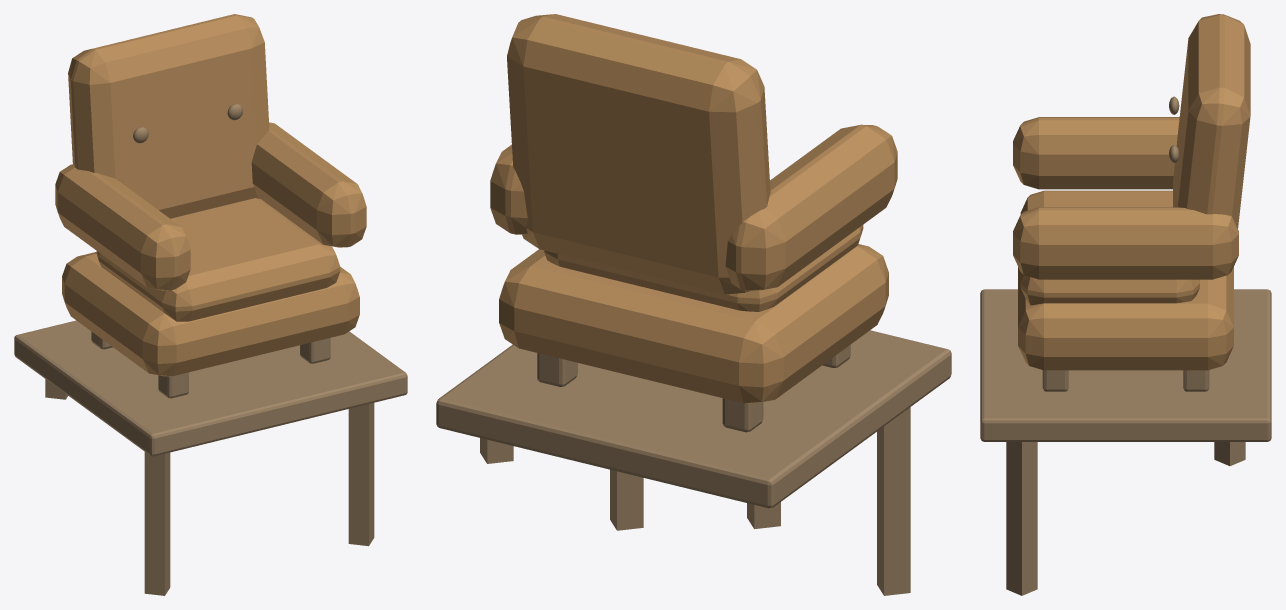
The model's file is SM_SlackerFriendsHouse_RoofChair.fbx.
3 renders of one model, left to right at view 1: azimuth 30°, elevation 25°; view 2: azimuth 150°, elevation 25°; view 3: azimuth 270°, elevation 25°, orthographic. The views are drawn at different scales.
Visible parts, largest first — view 1: EXPORT_Roof_Armchair_Back, EXPORT_Roof_Chair_Platform, EXPORT_Roof_Armchair_Base, EXPORT_Roof_Armchair_Cushion, EXPORT_Roof_Armchair_Arm, EXPORT_Roof_Armchair_Arm.001, EXPORT_Roof_Chair_Support, EXPORT_Roof_Chair_Support.002, EXPORT_Roof_Armchair_Foot, EXPORT_Roof_Armchair_Foot.002; view 2: EXPORT_Roof_Armchair_Back, EXPORT_Roof_Chair_Platform, EXPORT_Roof_Armchair_Base, EXPORT_Roof_Armchair_Arm, EXPORT_Roof_Chair_Support, EXPORT_Roof_Armchair_Cushion, EXPORT_Roof_Armchair_Arm.001, EXPORT_Roof_Chair_Support.002, EXPORT_Roof_Armchair_Foot.001, EXPORT_Roof_Armchair_Foot.003, EXPORT_Roof_Chair_Support.001, EXPORT_Roof_Chair_Support.003; view 3: EXPORT_Roof_Chair_Platform, EXPORT_Roof_Armchair_Arm.001, EXPORT_Roof_Armchair_Base, EXPORT_Roof_Armchair_Back, EXPORT_Roof_Armchair_Arm, EXPORT_Roof_Armchair_Cushion, EXPORT_Roof_Chair_Support.002, EXPORT_Roof_Chair_Support.003, EXPORT_Roof_Armchair_Foot.002, EXPORT_Roof_Armchair_Foot.003.
Part boxes in pixels (x1=…): EXPORT_Roof_Armchair_Back: x1=68, y1=14, x2=269, y2=218; EXPORT_Roof_Chair_Platform: x1=14, y1=320, x2=407, y2=456; EXPORT_Roof_Armchair_Base: x1=62, y1=252, x2=359, y2=376; EXPORT_Roof_Armchair_Cushion: x1=96, y1=198, x2=340, y2=321; EXPORT_Roof_Armchair_Arm: x1=55, y1=164, x2=190, y2=290; EXPORT_Roof_Armchair_Arm.001: x1=251, y1=122, x2=366, y2=247; EXPORT_Roof_Chair_Support: x1=144, y1=452, x2=170, y2=595; EXPORT_Roof_Chair_Support.002: x1=348, y1=403, x2=374, y2=546; EXPORT_Roof_Armchair_Foot: x1=158, y1=372, x2=188, y2=398; EXPORT_Roof_Armchair_Foot.002: x1=300, y1=338, x2=330, y2=363; EXPORT_Roof_Armchair_Back: x1=507, y1=14, x2=770, y2=294; EXPORT_Roof_Chair_Platform: x1=436, y1=330, x2=951, y2=508; EXPORT_Roof_Armchair_Base: x1=499, y1=244, x2=888, y2=403; EXPORT_Roof_Armchair_Arm: x1=725, y1=124, x2=897, y2=290; EXPORT_Roof_Chair_Support: x1=877, y1=407, x2=910, y2=595; EXPORT_Roof_Armchair_Cushion: x1=544, y1=225, x2=863, y2=311; EXPORT_Roof_Armchair_Arm.001: x1=490, y1=144, x2=527, y2=234; EXPORT_Roof_Chair_Support.002: x1=610, y1=469, x2=643, y2=530; EXPORT_Roof_Armchair_Foot.001: x1=722, y1=398, x2=763, y2=432; EXPORT_Roof_Armchair_Foot.003: x1=537, y1=353, x2=577, y2=386; EXPORT_Roof_Chair_Support.001: x1=747, y1=502, x2=780, y2=529; EXPORT_Roof_Chair_Support.003: x1=480, y1=438, x2=513, y2=463; EXPORT_Roof_Chair_Platform: x1=980, y1=289, x2=1271, y2=441; EXPORT_Roof_Armchair_Arm.001: x1=1013, y1=207, x2=1238, y2=279; EXPORT_Roof_Armchair_Base: x1=1018, y1=267, x2=1233, y2=370; EXPORT_Roof_Armchair_Back: x1=1173, y1=14, x2=1250, y2=228; EXPORT_Roof_Armchair_Arm: x1=1013, y1=117, x2=1179, y2=189; EXPORT_Roof_Armchair_Cushion: x1=1020, y1=190, x2=1199, y2=305; EXPORT_Roof_Chair_Support.002: x1=1006, y1=442, x2=1037, y2=595; EXPORT_Roof_Chair_Support.003: x1=1214, y1=442, x2=1245, y2=465; EXPORT_Roof_Armchair_Foot.002: x1=1042, y1=370, x2=1068, y2=391; EXPORT_Roof_Armchair_Foot.003: x1=1183, y1=370, x2=1209, y2=391.
Size of the model in its own units: 120 by 112 by 206.
